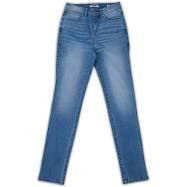pants: (40, 2, 148, 183)
